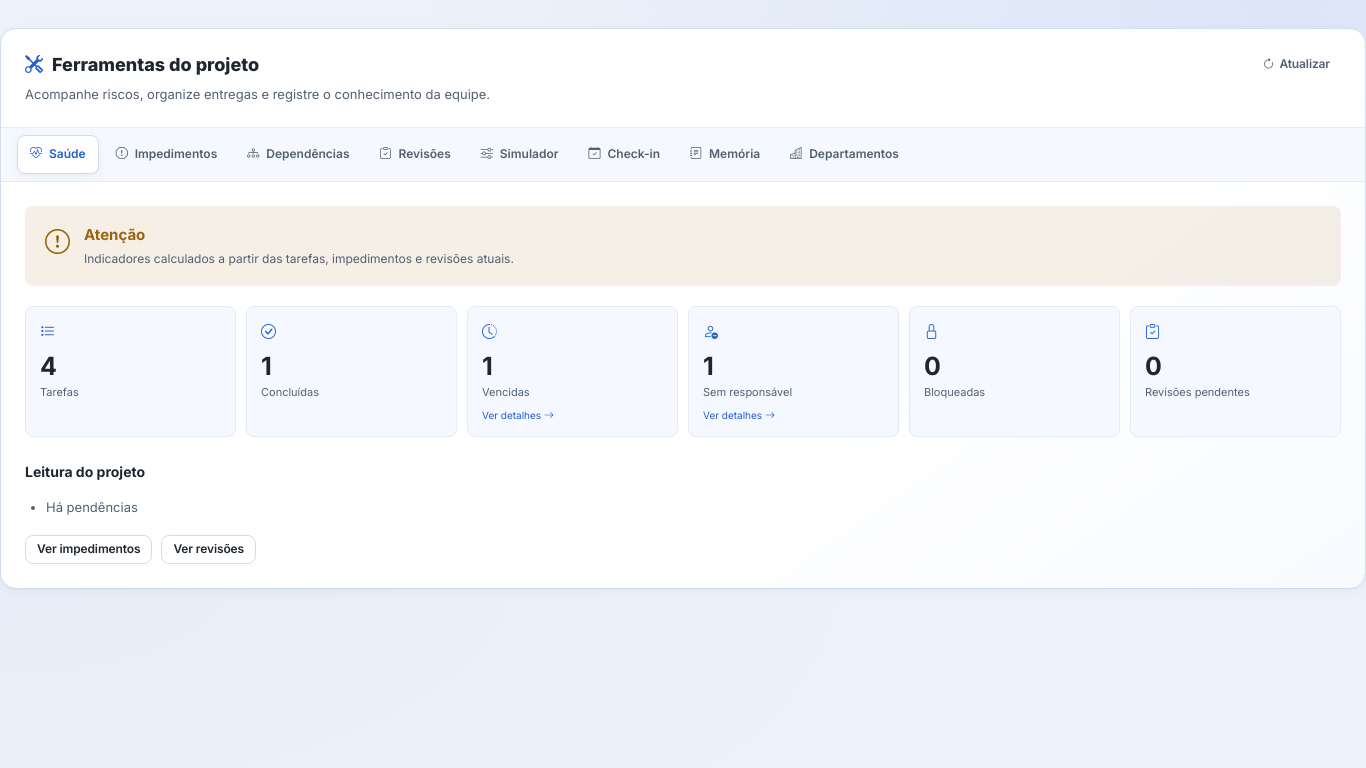
Test case: detalhes de tarefas vencidas e sem responsável mostram apenas tarefas ativas na Saúde
Click the button "Ver detalhes" below "Vencidas": (518, 415) [482,408,554,422]
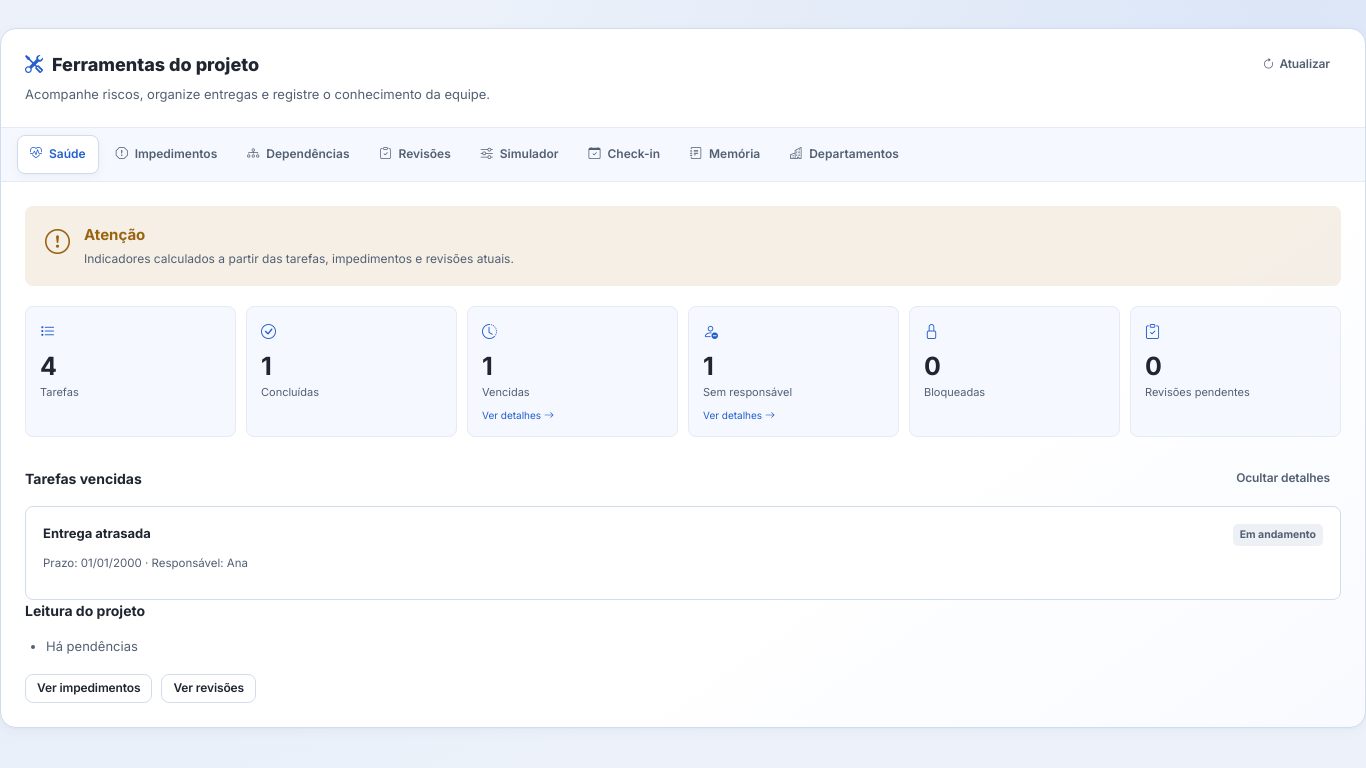
expect the text "Entrega atrasada" is shown: met, box [43,524,151,543]
expect the text "Em andamento" is shown: met, box [1233,524,1323,546]
expect the text "01/01/2000" is shown: met, box [81,556,142,570]
Click the button "Ver detalhes" below "Sem responsável": (739, 415) [703,408,775,422]
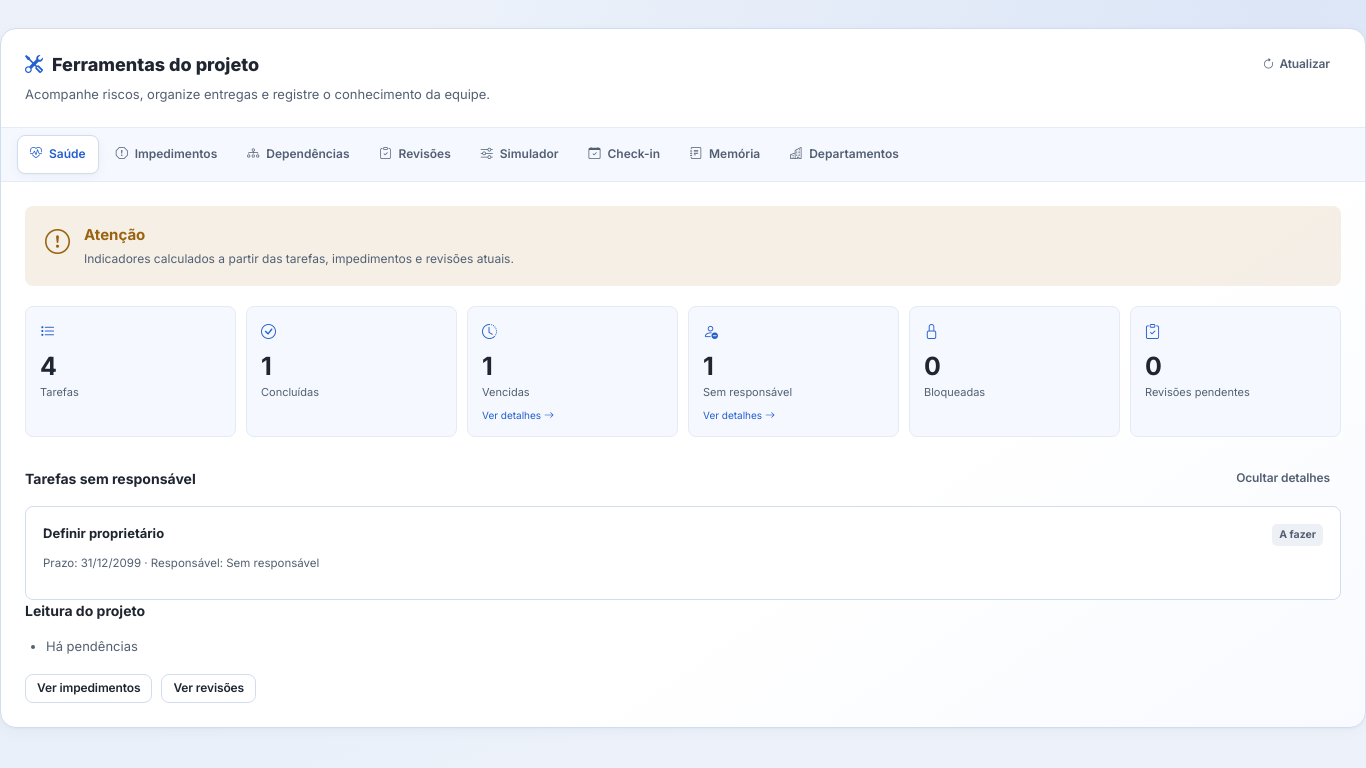
expect the text "Definir proprietário" is shown: met, box [43,524,164,543]
expect the text "31/12/2099" is shown: met, box [81,556,141,570]
expect the text "A fazer" is shown: met, box [1272,524,1323,546]
